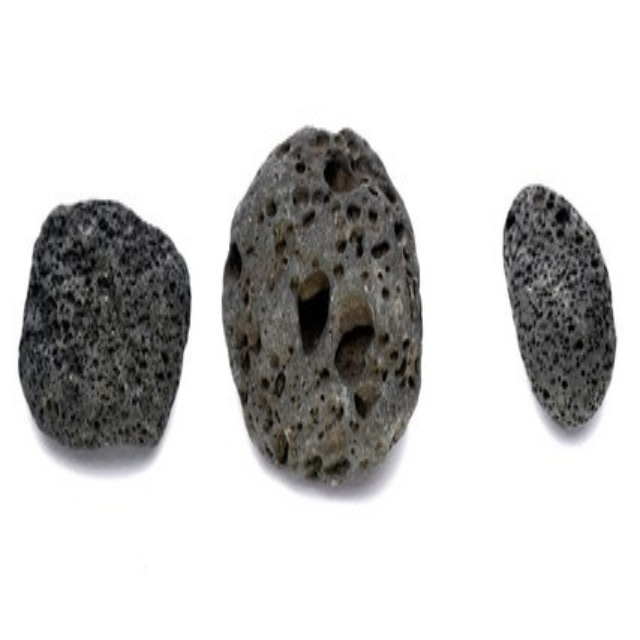obstacle: (222, 128, 421, 480), (18, 200, 189, 445), (504, 184, 615, 424)
